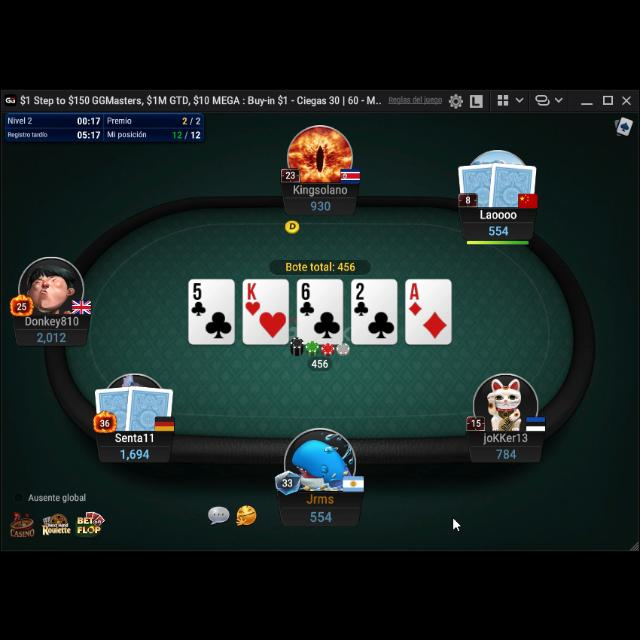2c: (352, 279, 370, 317)
5c: (190, 280, 208, 316)
6c: (298, 280, 316, 316)
Ad: (406, 279, 424, 315)
Kh: (244, 280, 262, 314)
bet_text: (310, 355, 330, 367)
card_back: (124, 380, 174, 430), (489, 156, 539, 206), (456, 157, 499, 205), (93, 382, 135, 430)
dealer: (285, 216, 301, 232)
pot_text: (284, 259, 356, 271)
stack_text: (36, 328, 68, 342), (120, 444, 150, 458), (308, 506, 332, 520), (310, 195, 332, 209), (488, 220, 510, 234), (497, 444, 518, 456)
